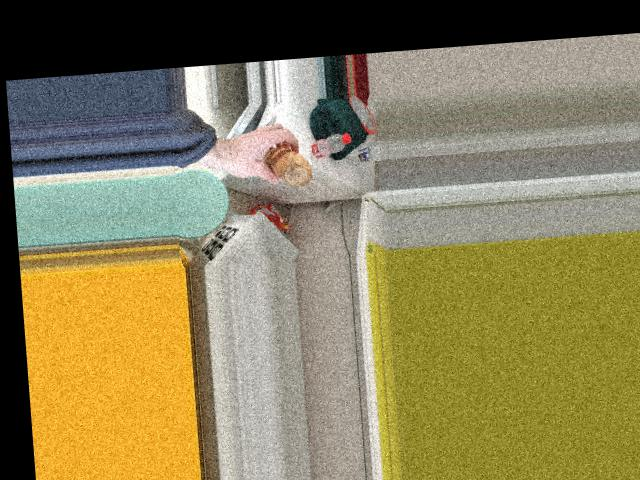sweet_potato: (263, 145, 314, 187)
